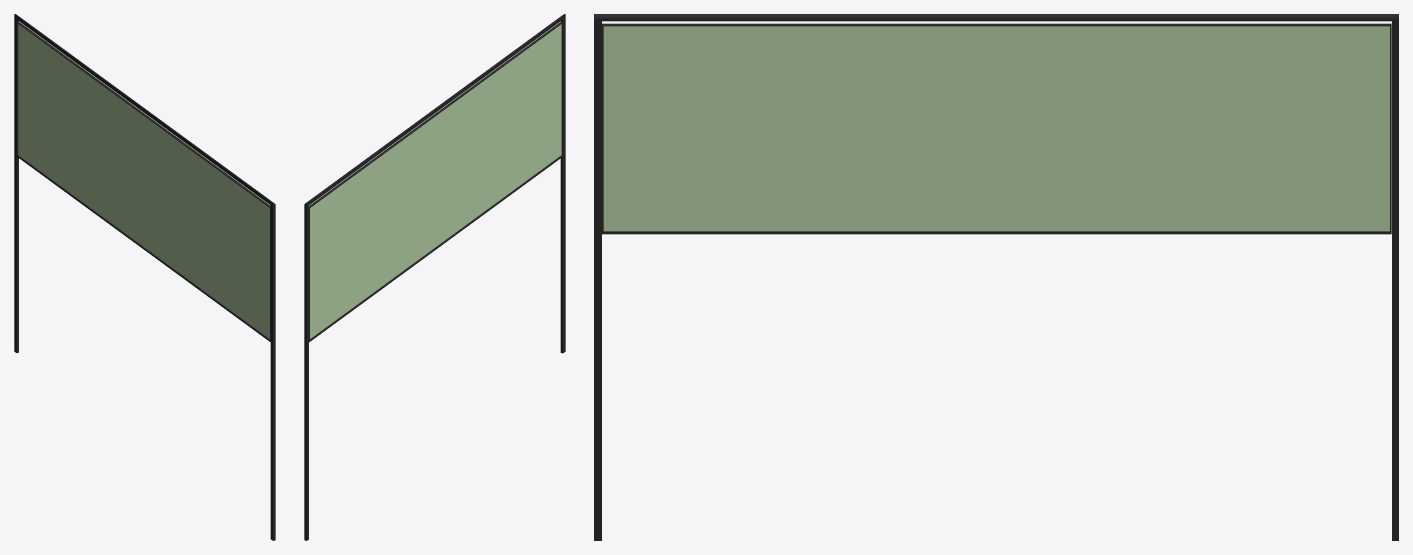
Rendered from qudrix-webgl_q2_attach_automatic-awing.gltf.
The picture shows the model from 3 angles, left to right: view 1: azimuth 30°, elevation 25°; view 2: azimuth 150°, elevation 25°; view 3: azimuth 270°, elevation 25°; orthographic projection. The views are drawn at different scales.
Parts seen in each view (by area): view 1: sides_automatic-sunscreen-base-Dazzoni 005.003, sides_automatic-sunscreen-frame, sides_automatic-sunscreen-base-Metal 004.003; view 2: sides_automatic-sunscreen-base-Dazzoni 005.003, sides_automatic-sunscreen-frame, sides_automatic-sunscreen-base-Metal 004.003; view 3: sides_automatic-sunscreen-base-Dazzoni 005.003, sides_automatic-sunscreen-frame, sides_automatic-sunscreen-base-Metal 004.003.
Part boxes in pixels (<box>): sides_automatic-sunscreen-base-Dazzoni 005.003: <box>18,24,269,338</box>; sides_automatic-sunscreen-frame: <box>14,14,275,540</box>; sides_automatic-sunscreen-base-Metal 004.003: <box>16,22,270,341</box>; sides_automatic-sunscreen-base-Dazzoni 005.003: <box>310,24,561,338</box>; sides_automatic-sunscreen-frame: <box>304,14,565,540</box>; sides_automatic-sunscreen-base-Metal 004.003: <box>309,22,563,342</box>; sides_automatic-sunscreen-base-Dazzoni 005.003: <box>603,26,1389,231</box>; sides_automatic-sunscreen-frame: <box>594,14,1398,540</box>; sides_automatic-sunscreen-base-Metal 004.003: <box>602,23,1391,234</box>.
Size of the model in its own units: 0.0217 by 2.64 by 3.66.
